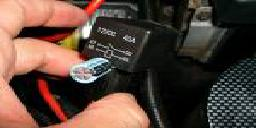Electrolytic Capacitor: (65, 55, 123, 87)
